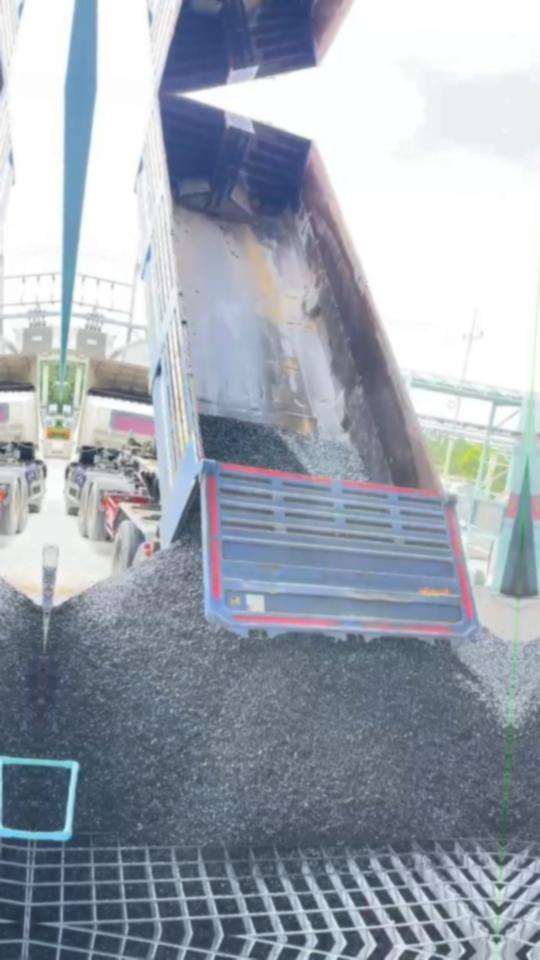gravel: (39, 517, 506, 843), (200, 415, 370, 480), (32, 766, 69, 831)
